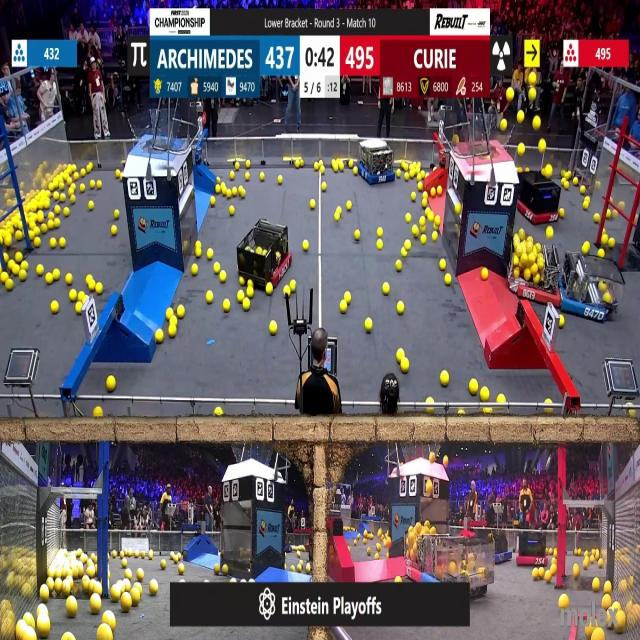ball_airborne: (538, 139, 546, 153), (529, 72, 536, 85), (529, 89, 536, 102), (518, 143, 525, 156), (533, 115, 540, 128), (426, 481, 432, 496), (506, 90, 513, 102), (518, 111, 525, 123), (500, 118, 506, 130), (444, 456, 450, 466), (453, 136, 459, 145), (516, 165, 520, 172)
ball_ground: (37, 619, 50, 639), (616, 614, 626, 634), (103, 614, 115, 630), (67, 598, 77, 617), (120, 595, 131, 612), (92, 596, 102, 613), (132, 590, 142, 606), (96, 627, 108, 640), (81, 578, 90, 594), (559, 595, 569, 609), (442, 372, 451, 386), (40, 588, 49, 602), (111, 588, 120, 602), (55, 579, 64, 593), (107, 377, 115, 392), (468, 380, 476, 394), (149, 582, 157, 596), (396, 302, 404, 316), (602, 595, 610, 609), (593, 630, 604, 640), (76, 290, 85, 302), (400, 359, 408, 372), (177, 306, 185, 319), (270, 321, 278, 334), (593, 580, 601, 593), (94, 583, 102, 596), (88, 277, 96, 290), (546, 164, 554, 177), (482, 388, 490, 400), (50, 302, 58, 314), (169, 325, 177, 337), (206, 290, 214, 302), (396, 349, 404, 361), (155, 331, 162, 344), (364, 319, 371, 332), (121, 582, 130, 592), (66, 274, 74, 285), (382, 283, 390, 294), (18, 270, 25, 282), (545, 228, 552, 240), (341, 302, 348, 314), (137, 568, 144, 580), (604, 583, 611, 595), (572, 564, 579, 576), (532, 568, 539, 580), (4, 236, 11, 248), (497, 393, 505, 403), (220, 564, 228, 574), (237, 291, 245, 301), (584, 242, 590, 255), (290, 280, 296, 293), (222, 301, 229, 312), (243, 300, 250, 311), (219, 272, 226, 283), (207, 249, 214, 260), (75, 304, 82, 315), (6, 280, 13, 291), (95, 408, 102, 419), (345, 291, 352, 302), (36, 266, 43, 277), (446, 275, 453, 286), (213, 264, 220, 275), (8, 262, 15, 273), (89, 567, 96, 578), (559, 316, 565, 328), (304, 240, 310, 252), (413, 224, 419, 236), (45, 273, 51, 285), (214, 409, 222, 418), (544, 570, 550, 582), (400, 163, 408, 172), (60, 238, 67, 248), (54, 270, 61, 280), (284, 285, 291, 295), (64, 633, 74, 640), (14, 252, 21, 262), (170, 316, 177, 326), (123, 568, 130, 578), (37, 212, 44, 222), (441, 261, 447, 272), (483, 270, 489, 281), (247, 287, 253, 298), (97, 283, 103, 294), (584, 199, 590, 210), (70, 290, 76, 301), (166, 307, 172, 318), (28, 232, 36, 240), (227, 207, 234, 216), (420, 236, 427, 245), (268, 284, 274, 294), (354, 231, 360, 241), (396, 262, 402, 272), (50, 239, 56, 249), (34, 238, 40, 248), (178, 564, 184, 574), (113, 210, 119, 220), (111, 225, 117, 235), (608, 239, 614, 249), (420, 216, 426, 226), (559, 208, 565, 218), (1, 273, 7, 283), (310, 200, 316, 210), (455, 204, 461, 214), (240, 187, 246, 197), (225, 187, 231, 197), (47, 219, 53, 229), (331, 161, 337, 171), (538, 568, 544, 578), (171, 553, 177, 563), (324, 186, 330, 196), (22, 263, 29, 271), (427, 396, 434, 404), (191, 266, 196, 277), (347, 202, 353, 211), (598, 249, 604, 258), (240, 277, 246, 286), (194, 248, 200, 257), (403, 241, 409, 250), (64, 208, 70, 217), (70, 194, 76, 203), (15, 232, 21, 241), (56, 207, 62, 216), (395, 170, 401, 179), (606, 210, 612, 219), (41, 223, 47, 232), (233, 187, 239, 196), (294, 160, 300, 169), (60, 181, 66, 190), (378, 240, 383, 250), (378, 229, 383, 239), (162, 560, 167, 570), (407, 214, 412, 224), (4, 252, 9, 262), (56, 218, 61, 228), (428, 212, 433, 222), (585, 560, 590, 570), (485, 409, 492, 416), (417, 182, 423, 190), (579, 185, 585, 193), (564, 181, 570, 189), (244, 173, 250, 181), (422, 200, 428, 208), (337, 207, 343, 215), (422, 190, 428, 198), (231, 172, 237, 180), (598, 560, 604, 568), (47, 212, 53, 220), (439, 186, 445, 194), (73, 172, 79, 180), (417, 174, 423, 182), (70, 184, 76, 192), (321, 182, 326, 191), (90, 202, 95, 211), (412, 191, 417, 200), (432, 233, 437, 242), (259, 173, 264, 182), (97, 180, 102, 189), (278, 178, 283, 187), (434, 216, 439, 225), (215, 184, 220, 193), (121, 559, 126, 568), (307, 564, 312, 573), (411, 169, 416, 178), (552, 565, 557, 574), (395, 575, 401, 582), (458, 411, 464, 418), (246, 280, 252, 287), (566, 172, 572, 179), (544, 410, 551, 416), (595, 214, 600, 222), (115, 170, 120, 178), (211, 198, 216, 206), (401, 248, 406, 256), (236, 163, 241, 171), (61, 192, 66, 200), (403, 173, 408, 181), (195, 241, 200, 249), (340, 162, 345, 170), (349, 161, 354, 169), (314, 164, 319, 172), (177, 554, 182, 562), (80, 170, 85, 178), (216, 564, 220, 574), (561, 170, 566, 178), (92, 180, 96, 189), (602, 236, 606, 245), (231, 577, 237, 583), (336, 214, 341, 221), (353, 168, 358, 175), (572, 178, 577, 185), (430, 188, 435, 195), (290, 565, 295, 572), (148, 553, 153, 560), (80, 183, 84, 191), (244, 159, 248, 167), (216, 176, 220, 184), (296, 564, 300, 572), (376, 554, 381, 560), (544, 398, 550, 403), (427, 410, 433, 415), (552, 558, 557, 564), (320, 168, 324, 175), (378, 543, 382, 550), (296, 552, 300, 558), (284, 564, 288, 570), (387, 554, 390, 560), (354, 539, 356, 545)
goal: (461, 119, 515, 159), (128, 115, 186, 152)
robot_blue: (560, 255, 616, 324), (355, 140, 395, 187), (490, 529, 513, 563)
robot_red: (238, 222, 293, 286), (509, 238, 560, 304), (403, 519, 448, 579), (517, 172, 561, 226), (516, 527, 550, 567)
